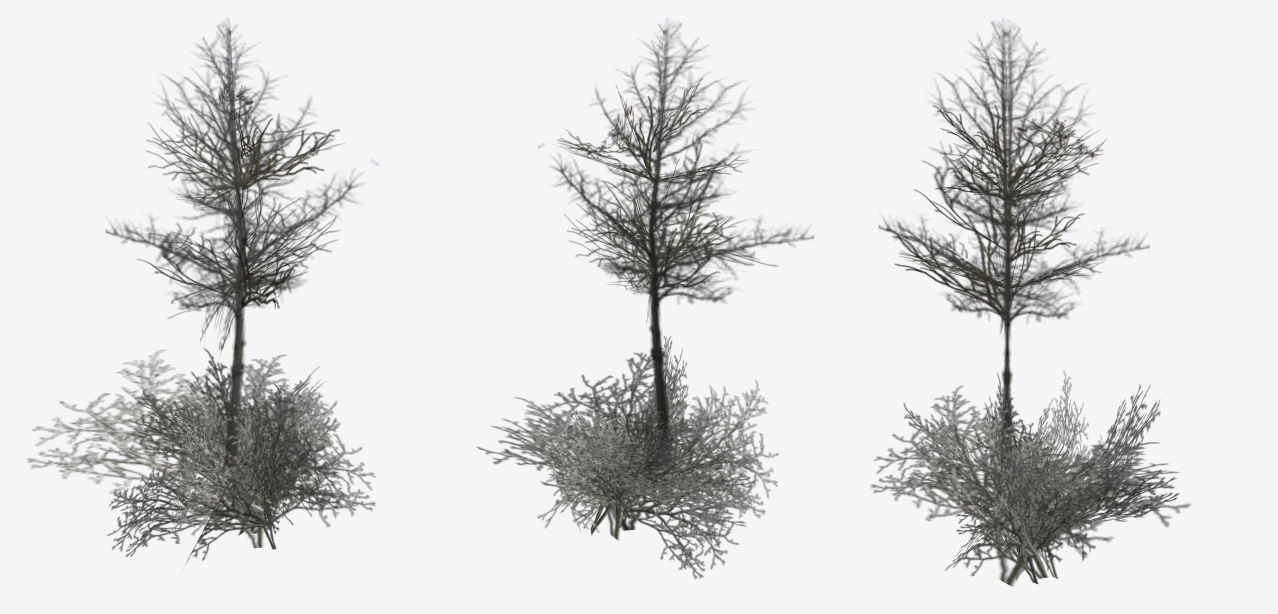
Rendered from wtree_c.glb.
3 renders of one model, left to right at view 1: azimuth 30°, elevation 25°; view 2: azimuth 150°, elevation 25°; view 3: azimuth 270°, elevation 25°, orthographic. The views are drawn at different scales.
Visible parts, largest first — view 1: Winter_Trees_Branches.007, Winter_Trees_Planes.007, Winter_Trees_Branches.011; view 2: Winter_Trees_Branches.007, Winter_Trees_Planes.007, Winter_Trees_Branches.011; view 3: Winter_Trees_Branches.007, Winter_Trees_Planes.007, Winter_Trees_Branches.011.
Part boxes in pixels (left/top/right/bottom): Winter_Trees_Branches.007: left=27, top=348, right=375, bottom=565; Winter_Trees_Planes.007: left=105, top=20, right=378, bottom=469; Winter_Trees_Branches.011: left=137, top=82, right=344, bottom=318; Winter_Trees_Branches.007: left=477, top=336, right=778, bottom=578; Winter_Trees_Planes.007: left=538, top=23, right=814, bottom=445; Winter_Trees_Branches.011: left=557, top=78, right=777, bottom=292; Winter_Trees_Branches.007: left=870, top=370, right=1190, bottom=586; Winter_Trees_Planes.007: left=878, top=21, right=1149, bottom=468; Winter_Trees_Branches.011: left=885, top=100, right=1106, bottom=316.
Bounding box in the file's own units: 7.2 × 10.68 × 7.1.
2 materials, 2 textured.
